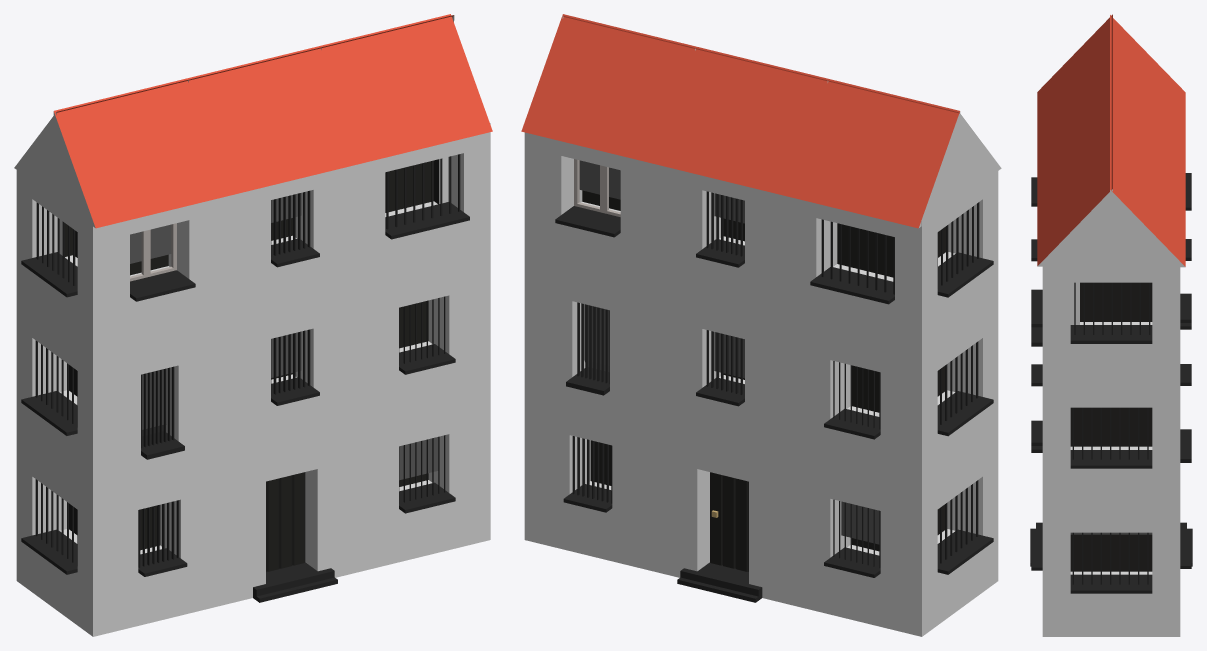
The model's file is Casa_Procedural_16.fbx.
3 views of the same model, side by side, from view 1: azimuth 30°, elevation 25°; view 2: azimuth 150°, elevation 25°; view 3: azimuth 270°, elevation 25° (orthographic). The views are drawn at different scales.
Visible parts, largest first — view 1: 16; view 2: 16; view 3: 16.
Part boxes in pixels (x1=…): 16: x1=14, y1=14, x2=492, y2=636; 16: x1=521, y1=14, x2=1001, y2=636; 16: x1=1030, y1=14, x2=1192, y2=636.
Size of the model in its own units: 316 by 359 by 118.
